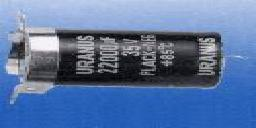Electrolytic Capacitor: (13, 27, 242, 89)
